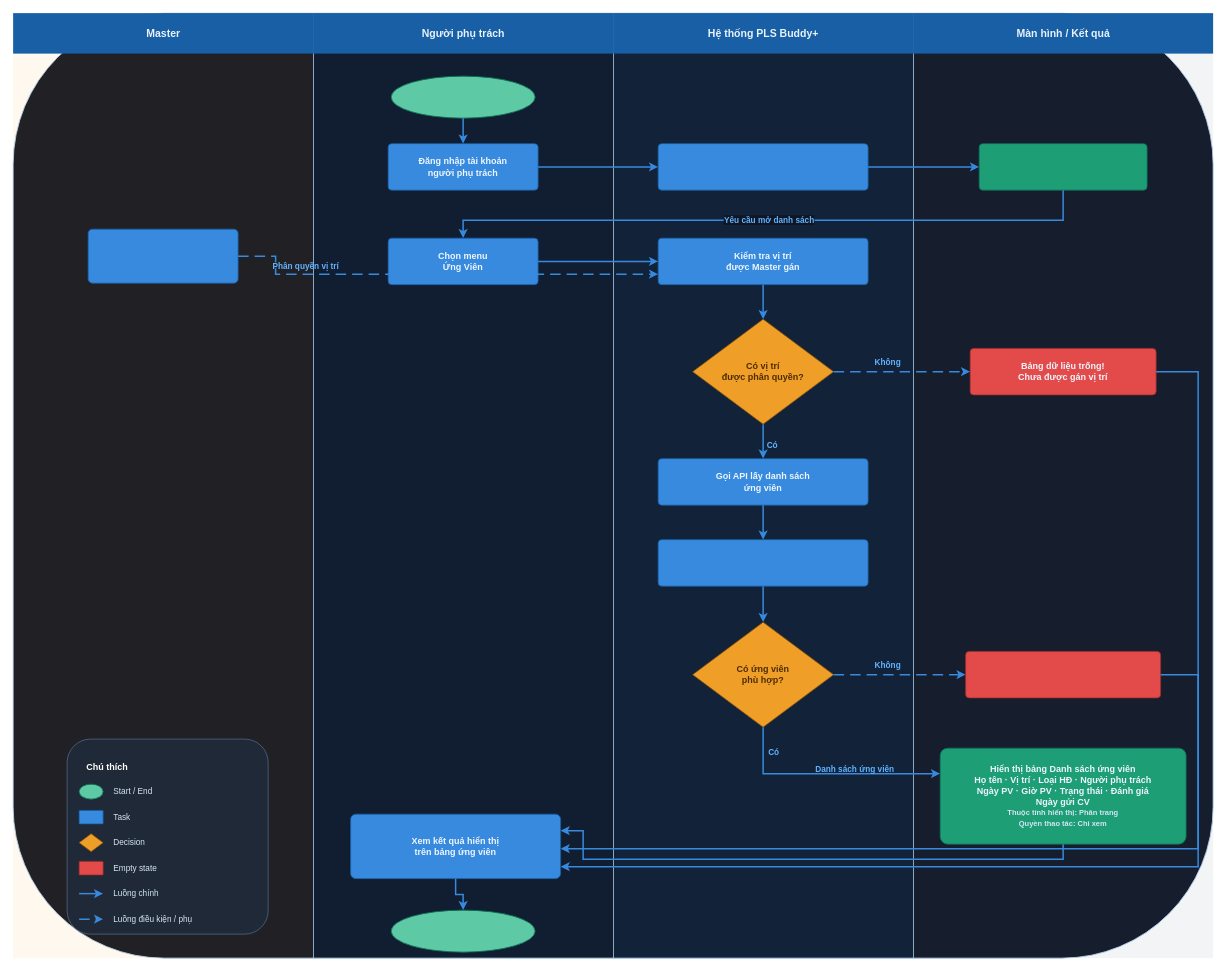
Some shapes in this 1227 by 972 pixel diagram are drawn without their labels. The centre of each missing label's shape, as x and y in pixels:
Bảng dữ liệu trống! Không có ứng viên phù hợp: point (1063, 674)
Bắt đầu: point (462, 96)
Gán quyền quản lý vị trí tuyển dụng cho Handler: point (162, 255)
Hiển thị màn hình chính của Handler: point (1062, 166)
Join / lọc ứng viên theo vị trí được phân quyền: point (762, 562)
Kết thúc: point (462, 930)
Xác thực tài khoản & xác định phân quyền: point (762, 166)
